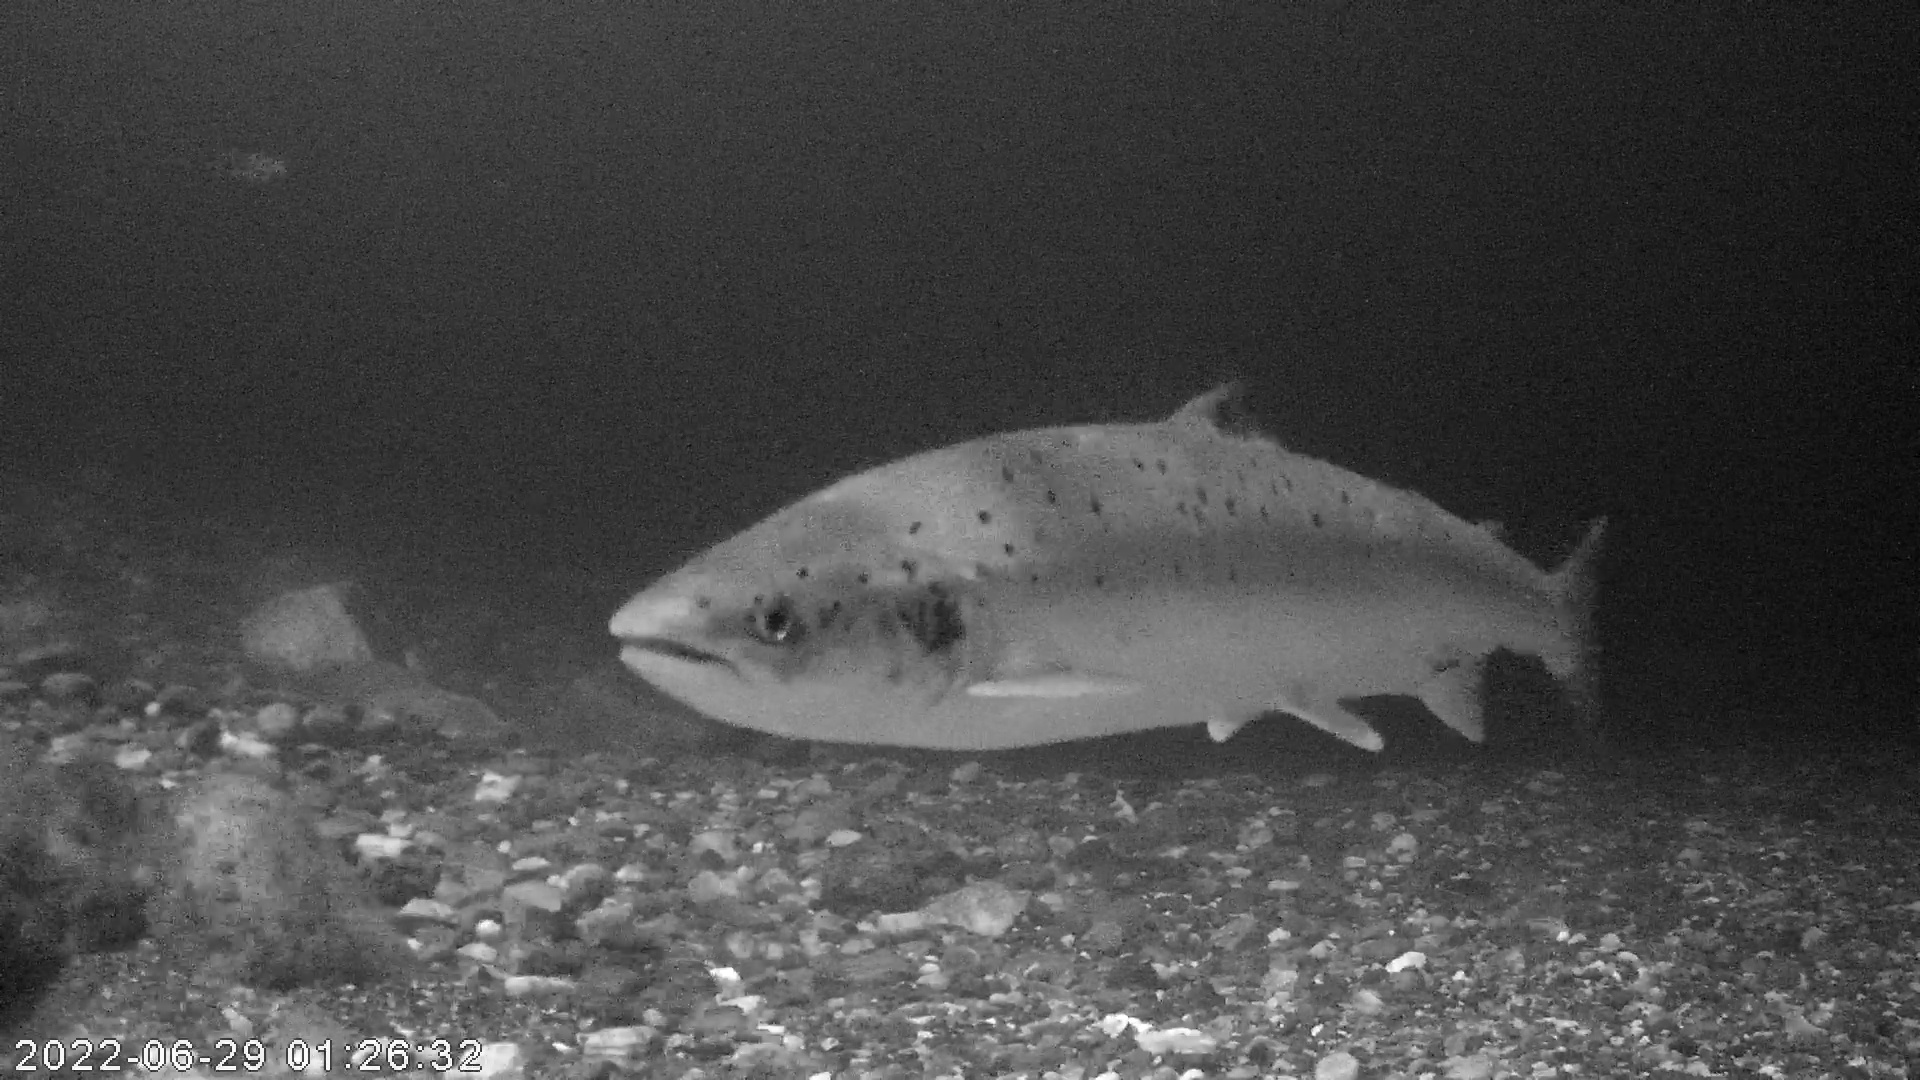salmon: (605, 367, 1613, 760)
